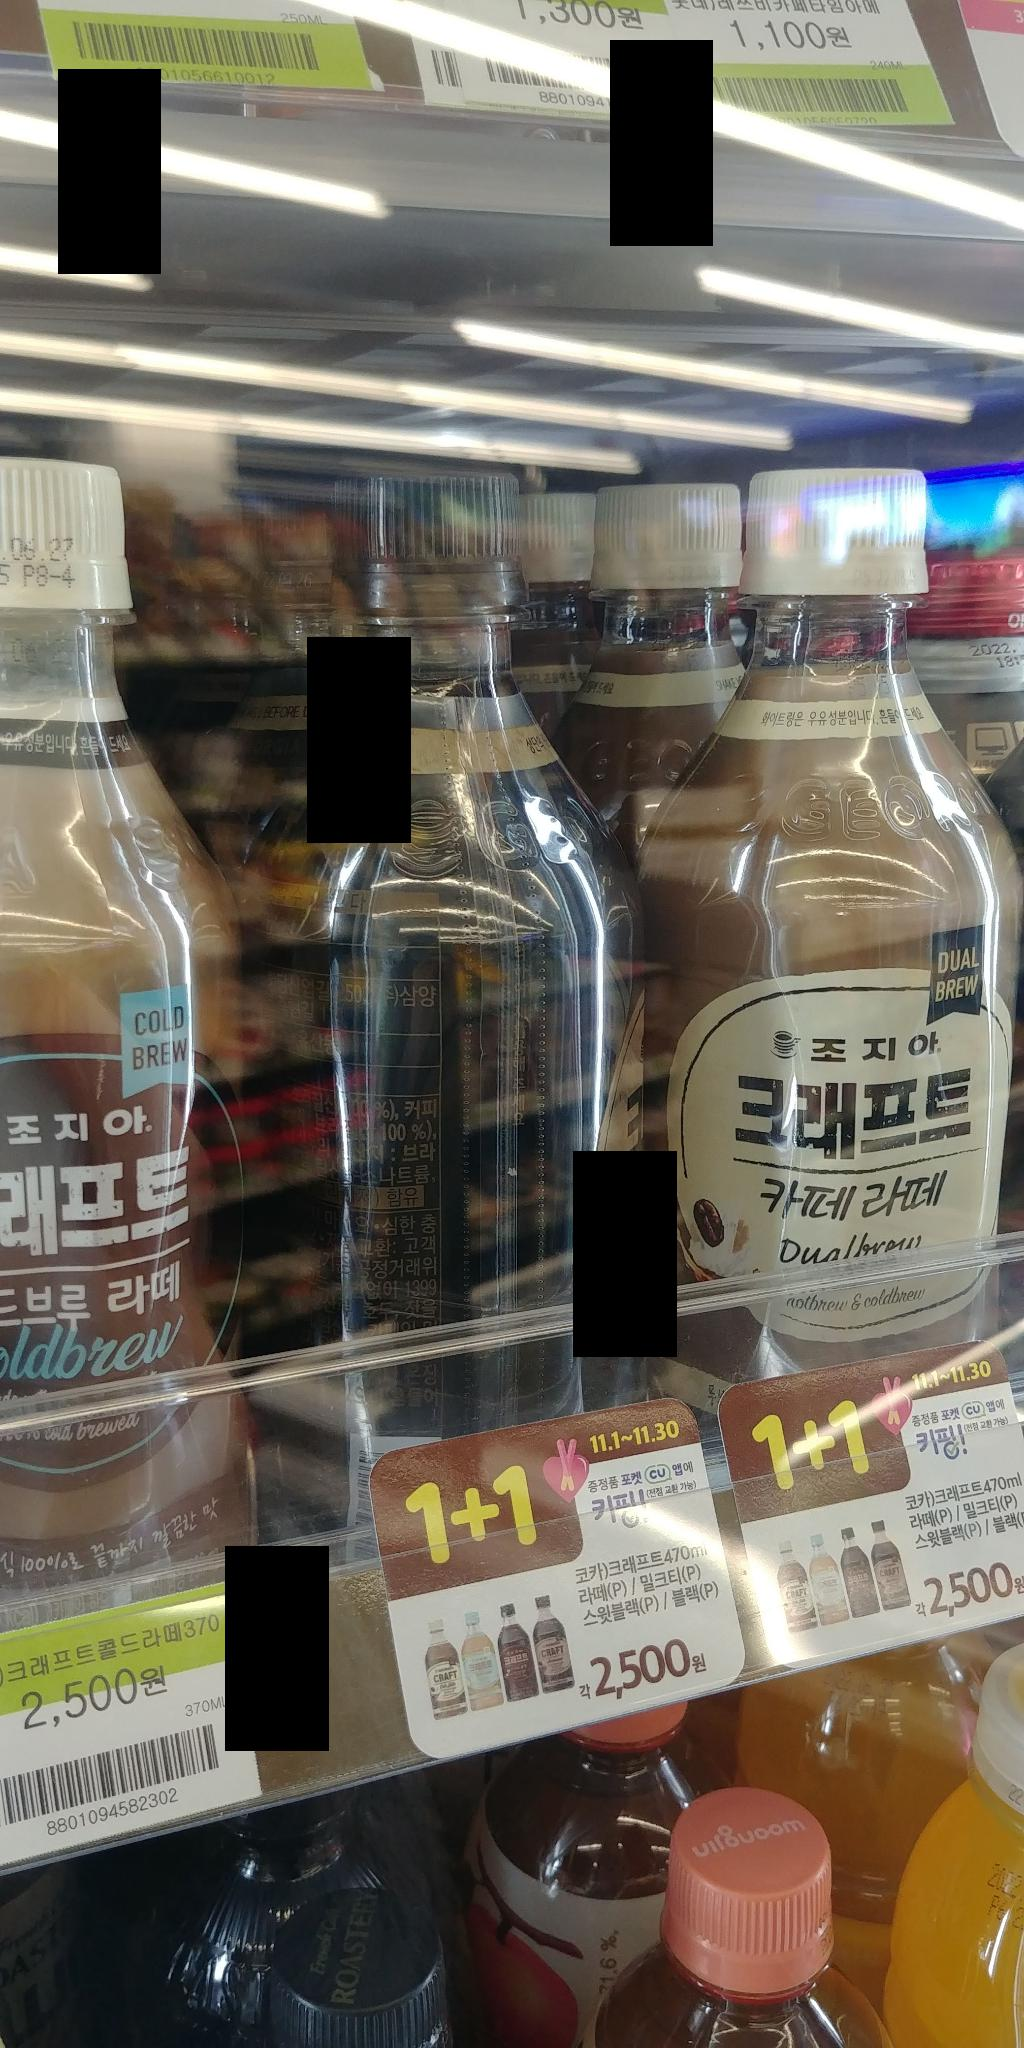georgiacraft_black: (248, 462, 636, 1499)
